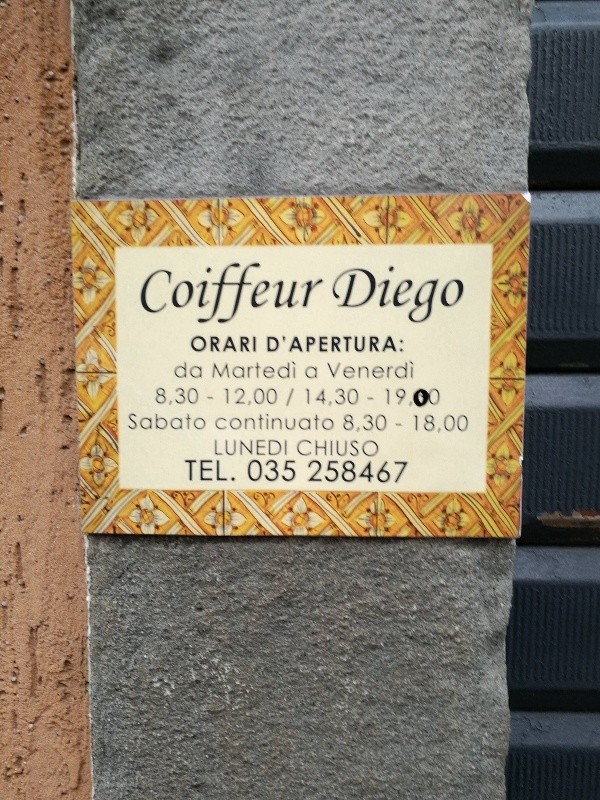text: (145, 261, 160, 334), (161, 261, 176, 334), (177, 261, 192, 334), (193, 261, 208, 334), (209, 261, 224, 334), (225, 261, 240, 334), (241, 261, 256, 334), (257, 261, 272, 334), (273, 261, 288, 334), (289, 261, 304, 334), (305, 261, 320, 334), (337, 262, 352, 325), (353, 262, 368, 325), (369, 262, 384, 325), (385, 262, 400, 325), (401, 262, 416, 325), (417, 262, 432, 325), (433, 262, 448, 325), (449, 262, 464, 325), (321, 459, 336, 486), (337, 459, 352, 486), (353, 459, 368, 486), (369, 459, 384, 486), (385, 459, 400, 486), (417, 386, 432, 411), (193, 458, 208, 482), (209, 458, 224, 482), (257, 458, 272, 482), (273, 458, 288, 482), (307, 459, 320, 486), (305, 334, 320, 356), (321, 334, 336, 356), (337, 334, 352, 356), (353, 334, 368, 356), (369, 334, 384, 356), (385, 334, 400, 356), (337, 360, 352, 381), (353, 360, 368, 381), (369, 360, 384, 381), (385, 360, 400, 381), (337, 387, 352, 408), (225, 412, 240, 433), (241, 412, 256, 433), (257, 412, 272, 433), (273, 412, 288, 433), (289, 412, 304, 433), (305, 412, 320, 433), (417, 413, 432, 434), (433, 413, 448, 434), (449, 413, 464, 434), (225, 360, 240, 380), (241, 360, 256, 380), (257, 360, 272, 380), (273, 360, 288, 380), (225, 387, 240, 407), (385, 388, 400, 408), (129, 412, 144, 432), (145, 412, 160, 432), (161, 412, 176, 432), (177, 412, 192, 432), (353, 413, 368, 433), (369, 413, 384, 433), (305, 439, 320, 459), (321, 439, 336, 459), (337, 439, 352, 459), (353, 439, 368, 459), (273, 332, 287, 353), (321, 412, 335, 433), (321, 261, 325, 334), (241, 335, 257, 353), (225, 458, 237, 482), (177, 361, 192, 380), (257, 387, 272, 406), (305, 388, 320, 407), (401, 360, 414, 381), (193, 335, 208, 353), (209, 335, 224, 353), (225, 335, 240, 353), (225, 439, 240, 457), (241, 439, 256, 457), (257, 439, 272, 457), (401, 388, 414, 408), (193, 412, 206, 432), (177, 388, 192, 405), (273, 439, 287, 457), (321, 388, 334, 407), (401, 459, 410, 486), (293, 334, 304, 356), (161, 387, 173, 407), (213, 360, 224, 380), (241, 387, 252, 407), (326, 360, 336, 381), (305, 364, 318, 380), (433, 386, 441, 411), (369, 439, 379, 459), (184, 458, 192, 482), (248, 458, 256, 482), (193, 361, 203, 380), (333, 262, 336, 325), (215, 412, 224, 433), (214, 439, 224, 457), (289, 458, 296, 482), (344, 413, 352, 433), (353, 387, 360, 408), (289, 360, 296, 380), (297, 439, 304, 459), (289, 388, 295, 407), (267, 332, 272, 353), (193, 388, 199, 405), (412, 386, 416, 411), (273, 387, 278, 406), (465, 413, 469, 434), (156, 387, 160, 407), (401, 334, 404, 356), (413, 413, 416, 434), (285, 388, 288, 407), (334, 387, 336, 408), (385, 413, 387, 433), (174, 361, 176, 380), (254, 387, 256, 406), (190, 335, 192, 353), (209, 396, 214, 401), (369, 397, 374, 401), (396, 423, 400, 428), (175, 388, 176, 405), (401, 423, 403, 428), (207, 396, 208, 401), (367, 397, 368, 401)
